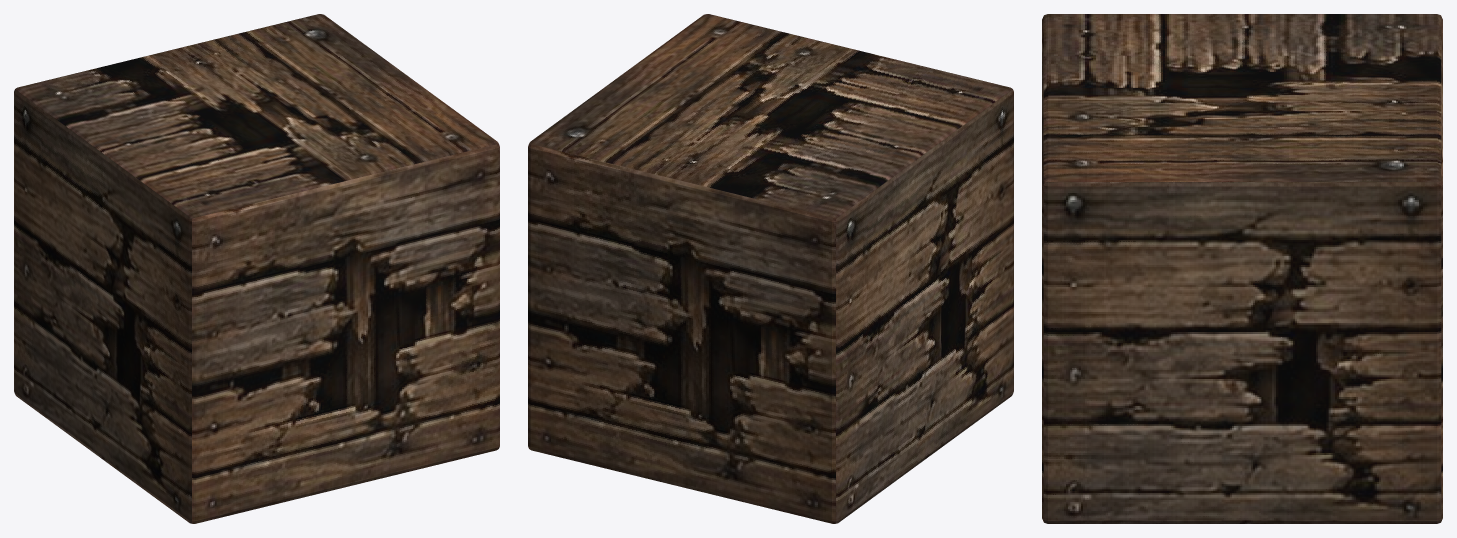
File: crate_broken.glb
3 renders of one model, left to right at view 1: azimuth 30°, elevation 25°; view 2: azimuth 150°, elevation 25°; view 3: azimuth 270°, elevation 25°, orthographic. The views are drawn at different scales.
Visible parts, largest first — view 1: body, piece_03, piece_08, piece_02, piece_11, piece_01, piece_00, piece_06, piece_09, piece_05, piece_07; view 2: body, piece_11, piece_06, piece_10, piece_05, piece_07, piece_04, piece_02, piece_08, piece_03, piece_00; view 3: body, piece_10, piece_04, piece_07, piece_09, piece_01, piece_02, piece_06, piece_03.
Part boxes in pixels (bbox=[...]): body: bbox=[14, 14, 499, 523]; piece_03: bbox=[105, 108, 368, 280]; piece_08: bbox=[107, 216, 362, 429]; piece_02: bbox=[291, 78, 499, 257]; piece_11: bbox=[14, 143, 112, 384]; piece_01: bbox=[343, 334, 499, 487]; piece_00: bbox=[112, 380, 351, 522]; piece_06: bbox=[18, 42, 290, 156]; piece_09: bbox=[354, 239, 498, 378]; piece_05: bbox=[14, 328, 115, 468]; piece_07: bbox=[218, 14, 410, 107]; body: bbox=[528, 14, 1013, 523]; piece_11: bbox=[647, 247, 896, 455]; piece_06: bbox=[640, 114, 927, 271]; piece_10: bbox=[528, 230, 656, 397]; piece_05: bbox=[660, 403, 938, 522]; piece_07: bbox=[528, 77, 732, 245]; piece_04: bbox=[528, 358, 664, 480]; piece_02: bbox=[618, 14, 829, 100]; piece_08: bbox=[979, 151, 1013, 330]; piece_03: bbox=[763, 45, 1013, 158]; piece_00: bbox=[938, 302, 1013, 449]; body: bbox=[1042, 14, 1442, 523]; piece_10: bbox=[1228, 278, 1442, 421]; piece_04: bbox=[1221, 407, 1442, 523]; piece_07: bbox=[1235, 115, 1442, 283]; piece_09: bbox=[1042, 283, 1235, 406]; piece_01: bbox=[1042, 393, 1227, 523]; piece_02: bbox=[1042, 110, 1241, 287]; piece_06: bbox=[1233, 14, 1442, 123]; piece_03: bbox=[1042, 14, 1236, 112].
Bounding box in the file's own units: 0.8 × 0.76 × 0.8.
1 material, 1 textured.
